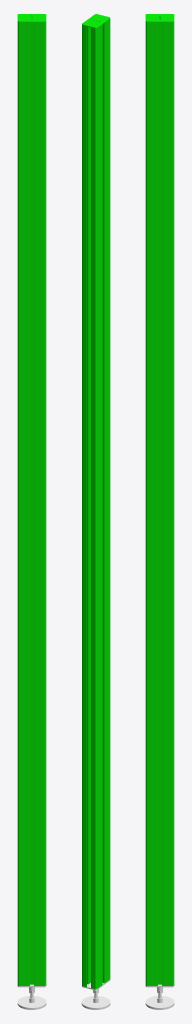
File: semi_wall_mounted_post_h2400_draco.glb
The picture shows the model from 3 angles, left to right: view 1: azimuth 90°, elevation 25°; view 2: azimuth 150°, elevation 25°; view 3: azimuth 270°, elevation 25°; orthographic projection.
Visible parts, largest first — view 1: SYSTEM000; view 2: SYSTEM000; view 3: SYSTEM000.
Part boxes in pixels (x1=…): SYSTEM000: x1=17, y1=14, x2=46, y2=1009; SYSTEM000: x1=81, y1=14, x2=110, y2=1009; SYSTEM000: x1=145, y1=14, x2=174, y2=1009.
Bounding box in the file's own units: 0.065 × 2.46 × 0.065.
